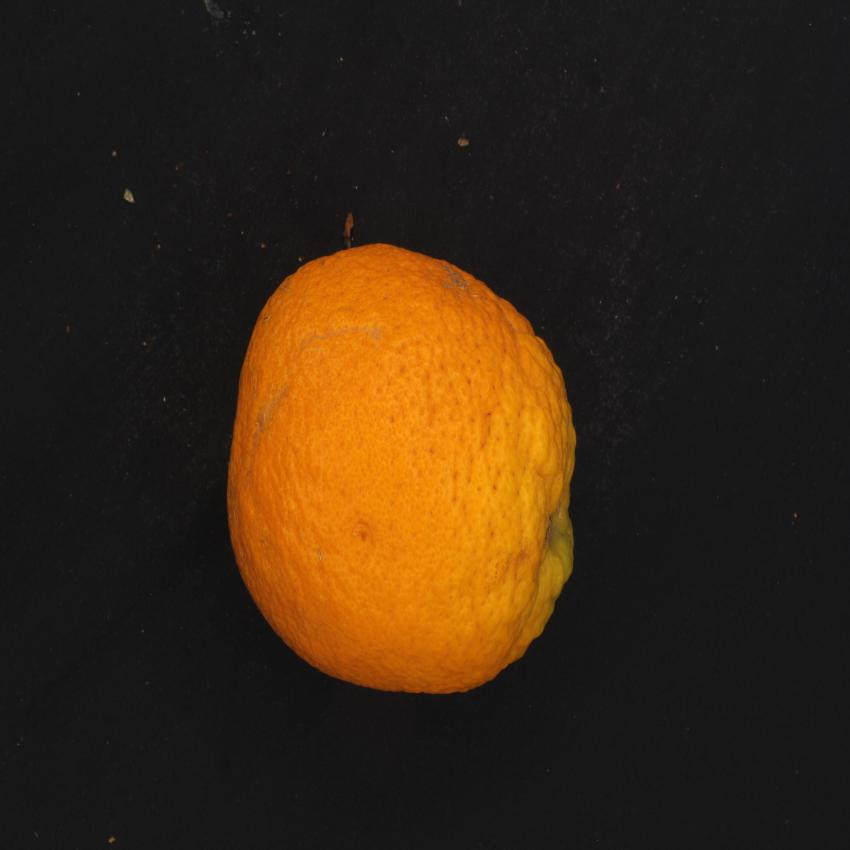Buen estado: (222, 234, 586, 706)
